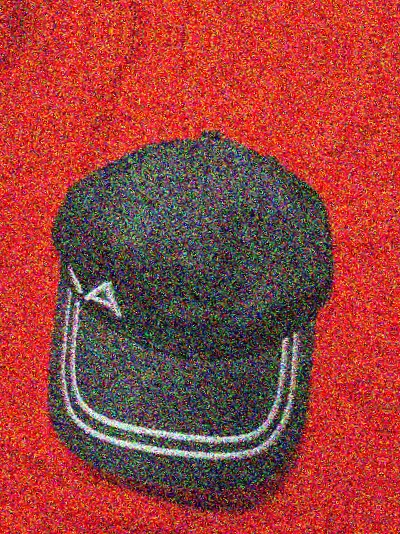Hat: (7, 103, 372, 519)
